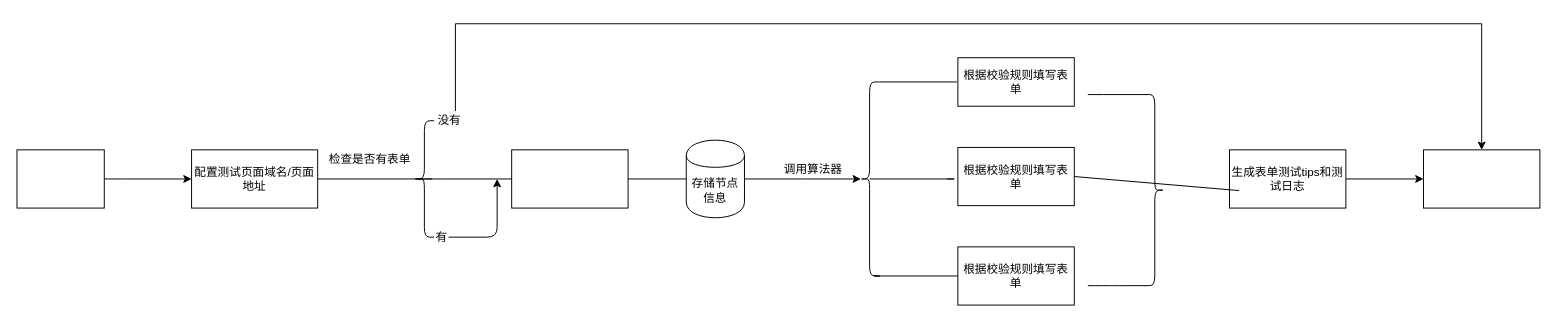
The diagram is 1557 pixels wide and 322 high, and some of its shapes have lost their labels. Here are the shapes that lost their labels. From the top down, the centre of each, then its label:
At (x=60, y=178): "开启测试辅助工具".
At (x=569, y=178): "遍历FORM结构搜集表单节点信息".
At (x=1481, y=178): "结束".
